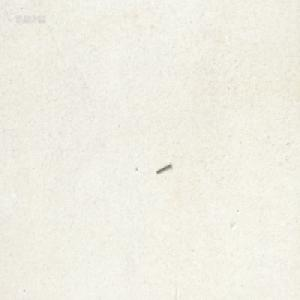Bolt: (155, 159, 171, 171)
